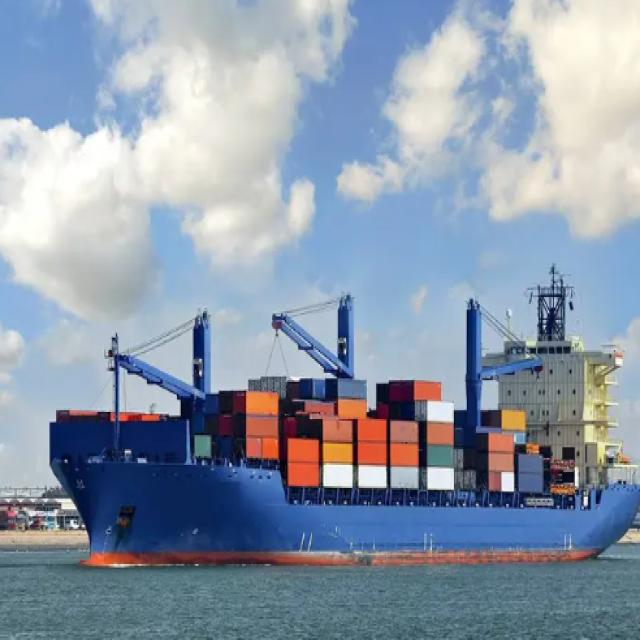cargoship: (42, 240, 613, 606)
